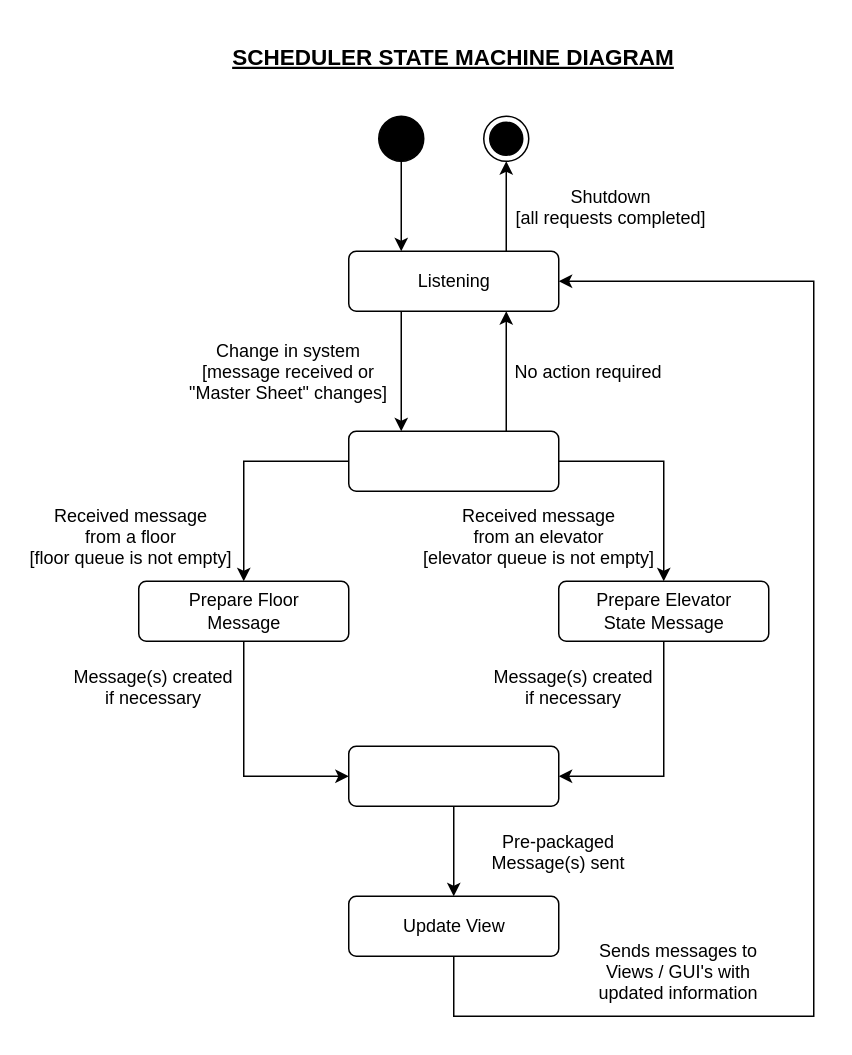
Image size: 852x1055. Some labels were removed from this diagram. Each missing label, with the centre of its shape:
Process Message: point 453,460
Send Message: point 453,775
